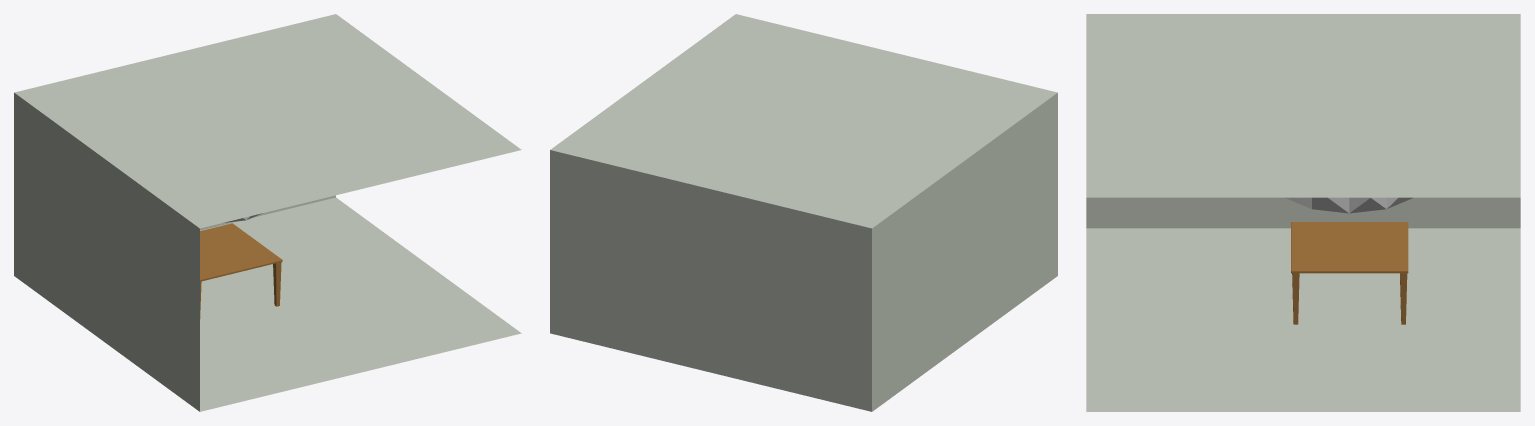
Rendered from big_lamp.obj.
3 views of the same model, side by side, from view 1: azimuth 30°, elevation 25°; view 2: azimuth 150°, elevation 25°; view 3: azimuth 270°, elevation 25° (orthographic). The views are drawn at different scales.
Parts seen in each view (by area): view 1: Cube.001, stol_Plane; view 2: Cube.001; view 3: Cube.001, stol_Plane, Circle.001.
Boxes of the visible parts, box(x1,y1,x2,y2) form: Cube.001: box(14, 14, 521, 411); stol_Plane: box(200, 223, 282, 318); Cube.001: box(550, 14, 1057, 411); Cube.001: box(1086, 14, 1520, 411); stol_Plane: box(1291, 222, 1408, 324); Circle.001: box(1285, 197, 1413, 213).
Size of the model in its own units: 5.81 by 3.16 by 5.81.
